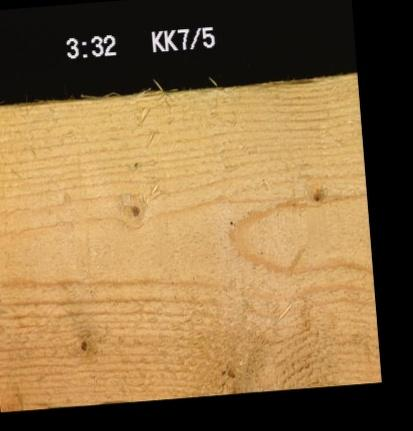small_knot: (66, 330, 93, 355), (307, 180, 329, 207), (128, 200, 144, 219)
